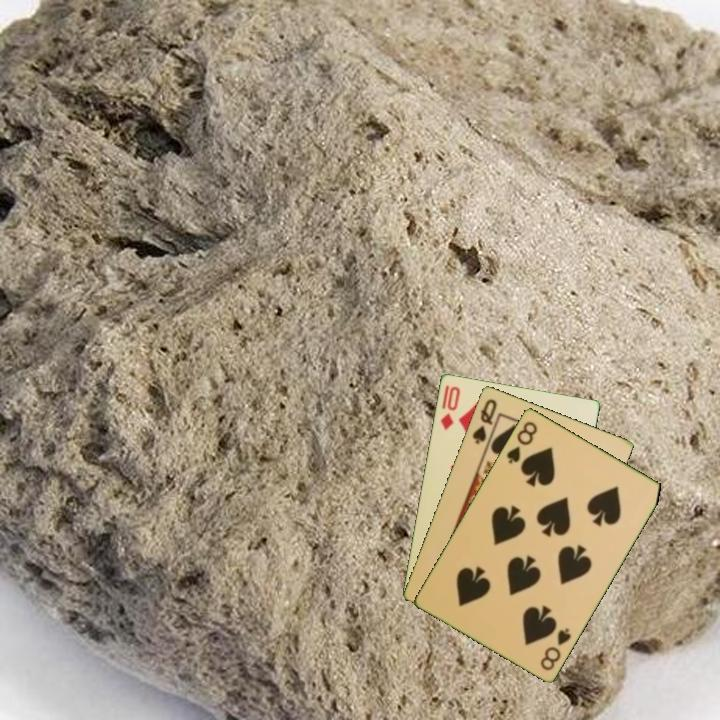10d: (436, 381, 463, 432)
8s: (503, 417, 540, 466), (537, 624, 574, 673)
Qs: (469, 395, 500, 447)
